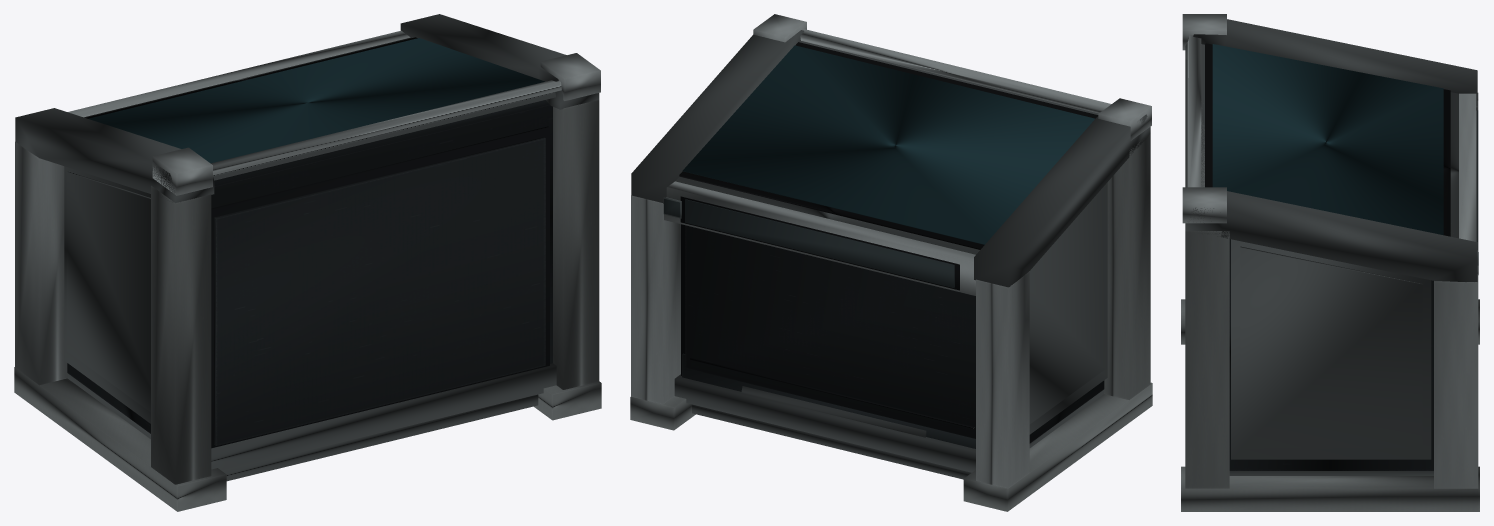
File: TouchConsole_LOD2.fbx
3 views of the same model, side by side, from view 1: azimuth 30°, elevation 25°; view 2: azimuth 150°, elevation 25°; view 3: azimuth 270°, elevation 25° (orthographic). The views are drawn at different scales.
Parts seen in each view (by area): view 1: ServicePanels, AlloyFrame, Chassis, TouchGlass; view 2: AlloyFrame, ServicePanels, TouchGlass, Chassis, FrontPlaque; view 3: AlloyFrame, ServicePanels, TouchGlass, Chassis.
Part boxes in pixels (<box>): ServicePanels: <box>64,37,549,448</box>; AlloyFrame: <box>14,14,601,511</box>; Chassis: <box>67,37,556,481</box>; TouchGlass: <box>88,38,544,163</box>; AlloyFrame: <box>630,14,1152,511</box>; ServicePanels: <box>663,42,1107,448</box>; TouchGlass: <box>682,45,1094,244</box>; Chassis: <box>674,41,1104,479</box>; FrontPlaque: <box>664,198,954,288</box>; AlloyFrame: <box>1181,14,1479,511</box>; ServicePanels: <box>1205,43,1477,459</box>; TouchGlass: <box>1212,44,1443,235</box>; Chassis: <box>1201,44,1458,475</box>.
Size of the model in its own units: 1.5 by 1.14 by 1.
